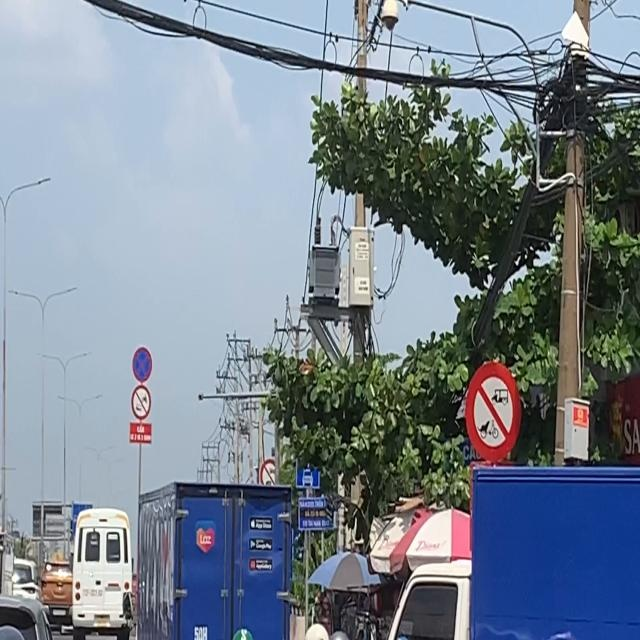bien_cam: (132, 346, 152, 384)
